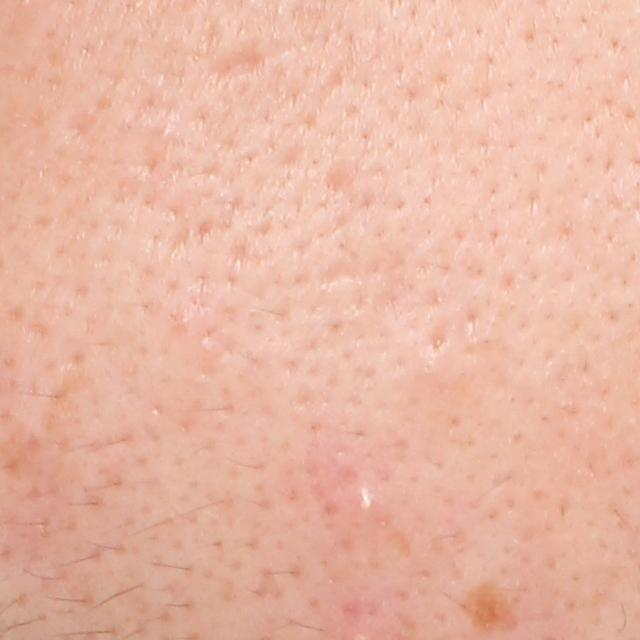atrophic_scar: (50, 86, 116, 147), (34, 369, 86, 433), (201, 47, 268, 85), (419, 314, 452, 360)
pustule: (344, 484, 384, 518)
